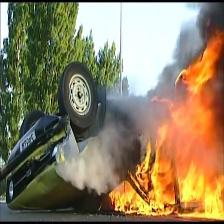fire: (121, 23, 222, 220)
